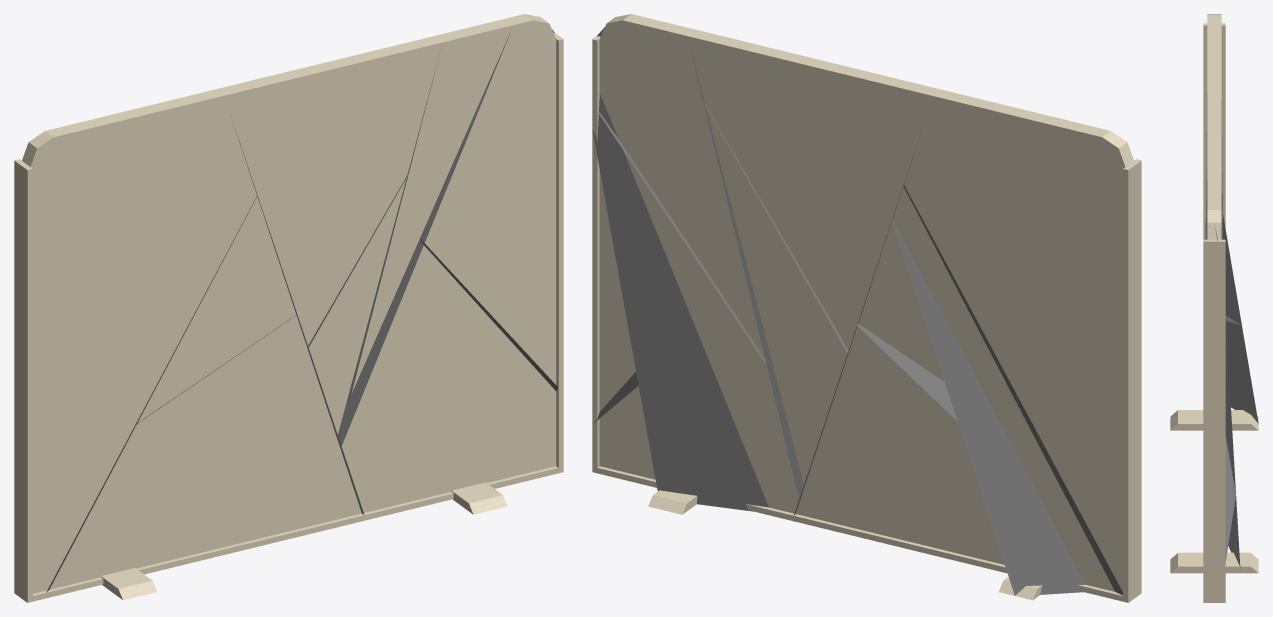
Rendered from divider_black_blue Fragments.fbx.
3 views of the same model, side by side, from view 1: azimuth 30°, elevation 25°; view 2: azimuth 150°, elevation 25°; view 3: azimuth 270°, elevation 25° (orthographic). The views are drawn at different scales.
Parts seen in each view (by area): view 1: Fragment4, Fragment3, Fragment9, Fragment0, Fragment8, Fragment6, Fragment2, Fragment1; view 2: Fragment4, Fragment0, Fragment7, Fragment3, Fragment6, Fragment5, Fragment1, Fragment2, Fragment8, Fragment9; view 3: Fragment8, Fragment3, Fragment4, Fragment9, Fragment0, Fragment7, Fragment6, Fragment2, Fragment5.
Part boxes in pixels (x1=…): Fragment4: x1=14, y1=90, x2=256, y2=602; Fragment3: x1=43, y1=315, x2=365, y2=600; Fragment9: x1=338, y1=239, x2=563, y2=520; Fragment0: x1=214, y1=30, x2=458, y2=347; Fragment8: x1=420, y1=19, x2=563, y2=392; Fragment6: x1=338, y1=14, x2=554, y2=441; Fragment2: x1=136, y1=196, x2=296, y2=424; Fragment1: x1=308, y1=173, x2=408, y2=442; Fragment4: x1=903, y1=89, x2=1141, y2=602; Fragment0: x1=687, y1=36, x2=939, y2=352; Fragment7: x1=592, y1=104, x2=802, y2=520; Fragment3: x1=792, y1=325, x2=1085, y2=595; Fragment6: x1=592, y1=15, x2=774, y2=373; Fragment5: x1=892, y1=186, x2=1128, y2=602; Fragment1: x1=703, y1=103, x2=848, y2=499; Fragment2: x1=857, y1=219, x2=997, y2=420; Fragment8: x1=592, y1=14, x2=688, y2=424; Fragment9: x1=592, y1=313, x2=768, y2=510; Fragment8: x1=1203, y1=203, x2=1235, y2=562; Fragment3: x1=1170, y1=318, x2=1258, y2=430; Fragment4: x1=1203, y1=14, x2=1225, y2=239; Fragment9: x1=1170, y1=441, x2=1240, y2=602; Fragment0: x1=1206, y1=83, x2=1222, y2=239; Fragment7: x1=1223, y1=295, x2=1258, y2=573; Fragment6: x1=1206, y1=173, x2=1225, y2=295; Fragment2: x1=1205, y1=187, x2=1241, y2=325; Fragment5: x1=1221, y1=176, x2=1258, y2=422.
Size of the model in its own units: 306 by 250 by 52.3.
